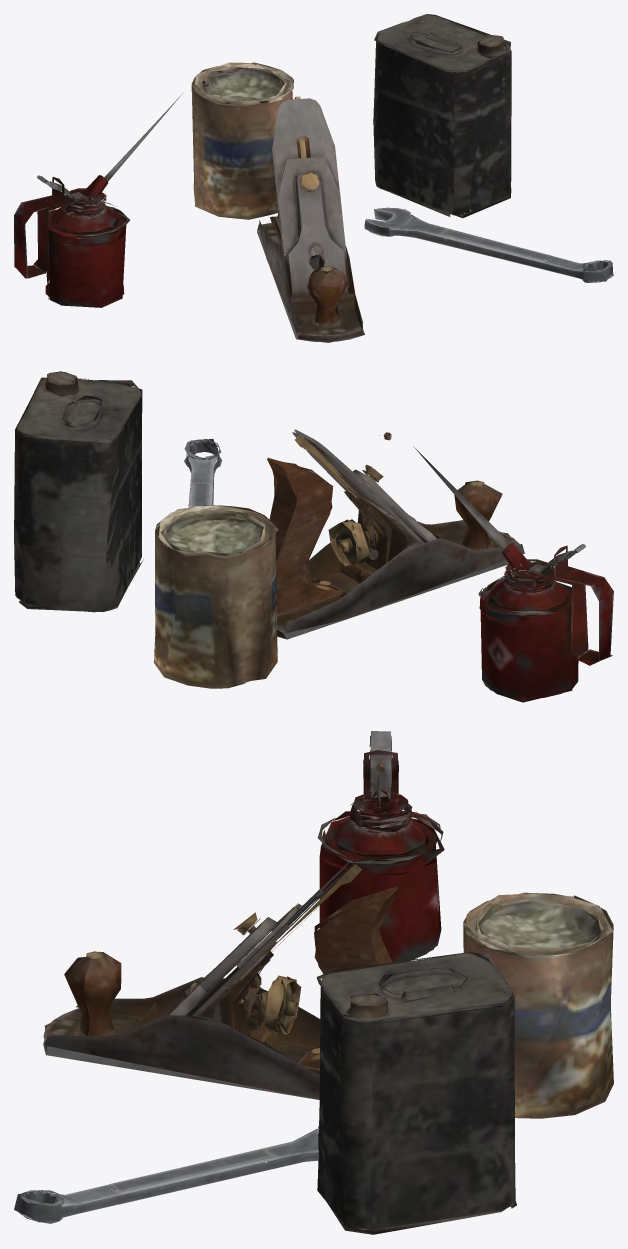
File: tool_clutter-low.glb
The picture shows the model from 3 angles, top to bottom: view 1: azimuth 30°, elevation 25°; view 2: azimuth 150°, elevation 25°; view 3: azimuth 270°, elevation 25°; orthographic projection. The views are drawn at different scales.
Parts seen in each view (by area): view 1: tool_clutter-low; view 2: tool_clutter-low; view 3: tool_clutter-low.
Part boxes in pixels (box(x1,y1,x2,y2)): tool_clutter-low: box(14, 14, 613, 342); tool_clutter-low: box(14, 371, 613, 702); tool_clutter-low: box(14, 731, 613, 1234).
Bounding box in the file's own units: 0.6698 × 0.2383 × 0.4948.
Materials: 1 (1 with a texture image).
